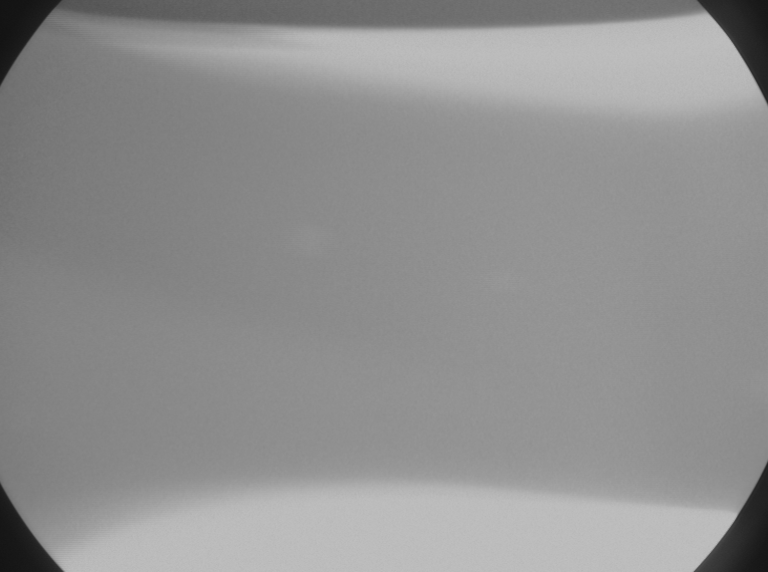defect: (485, 265, 517, 298)
